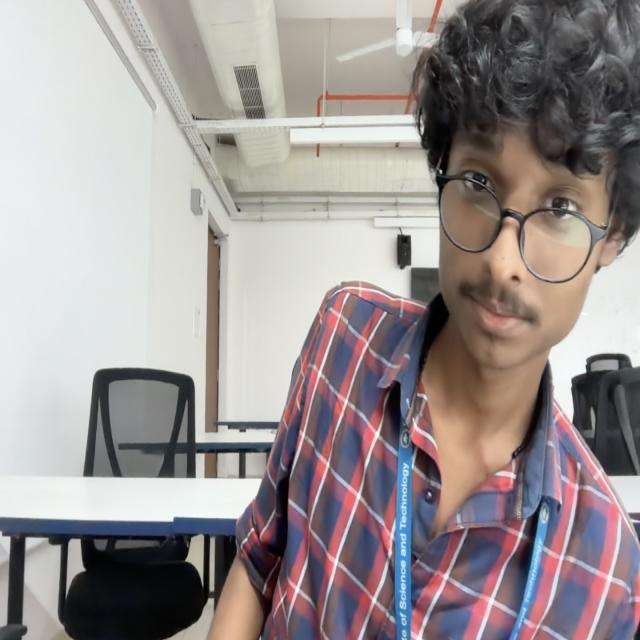darshan: (414, 2, 640, 370)
